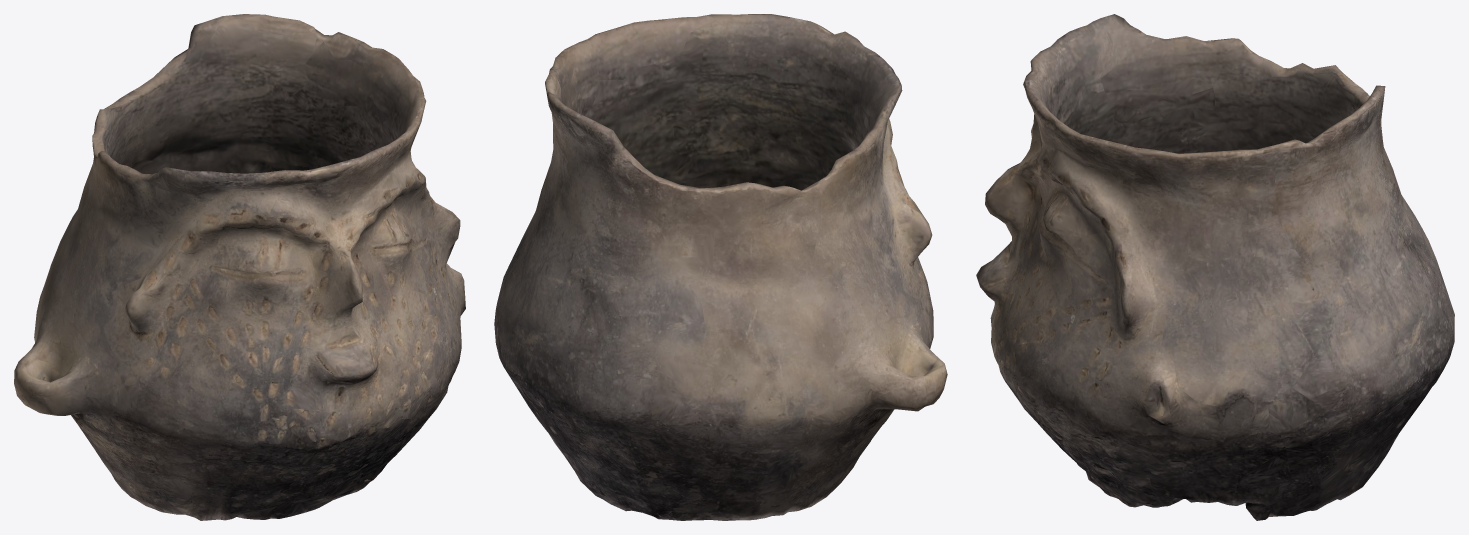
3 views of the same model, side by side, from view 1: azimuth 30°, elevation 25°; view 2: azimuth 150°, elevation 25°; view 3: azimuth 270°, elevation 25° (orthographic). The views are drawn at different scales.
Visible parts, largest first — view 1: MA6180; view 2: MA6180; view 3: MA6180.
Boxes of the visible parts, left/top/right/bottom form: MA6180: left=14, top=14, right=465, bottom=520; MA6180: left=494, top=14, right=947, bottom=520; MA6180: left=976, top=14, right=1454, bottom=520.
Bounding box in the file's own units: 0.159 × 0.1426 × 0.152.
1 material, 1 textured.
